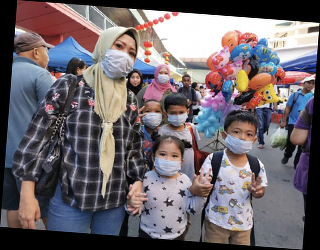mask_weared_incorrect: (224, 126, 256, 153)
with_mask: (102, 38, 136, 77), (152, 148, 182, 176), (140, 105, 163, 129), (167, 106, 189, 127), (156, 68, 170, 84)
without_mask: (37, 45, 50, 70), (128, 72, 142, 88), (303, 80, 315, 93), (182, 78, 192, 88)
